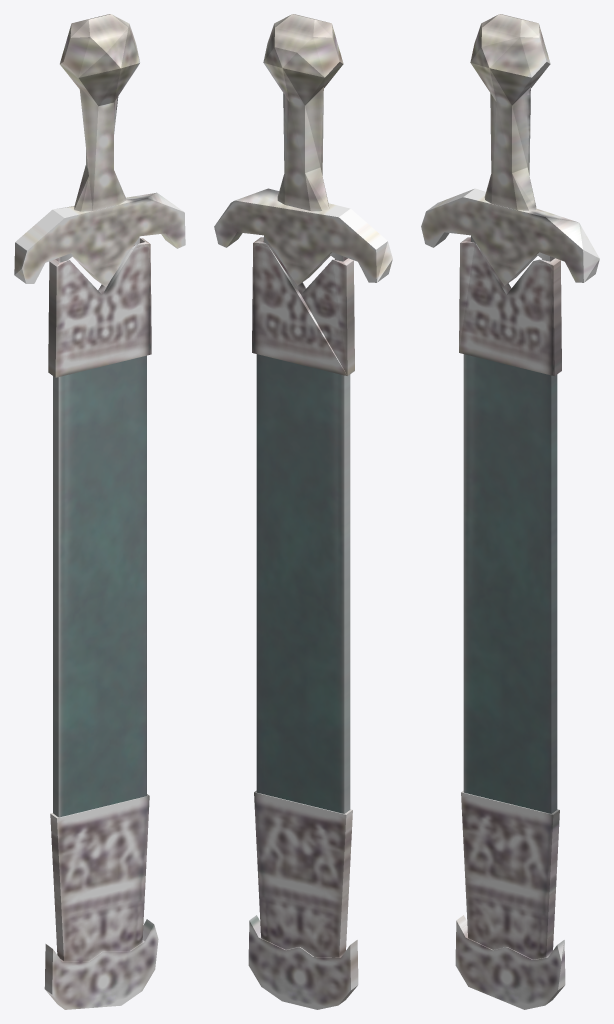
The model's file is sheathedsword236_wtf.obj.
3 renders of one model, left to right at view 1: azimuth 30°, elevation 25°; view 2: azimuth 150°, elevation 25°; view 3: azimuth 330°, elevation 25°, orthographic.
Parts seen in each view (by area): view 1: group2, group1; view 2: group2, group1; view 3: group2, group1.
Boxes of the visible parts, box(x1,y1,x2,y2) form: group2: box(44, 238, 158, 1009); group1: box(14, 14, 185, 286); group2: box(248, 237, 358, 1009); group1: box(214, 14, 392, 285); group2: box(455, 237, 565, 1009); group1: box(421, 14, 599, 285).
Bounding box in the file's own units: 117 × 660 × 50.72.
